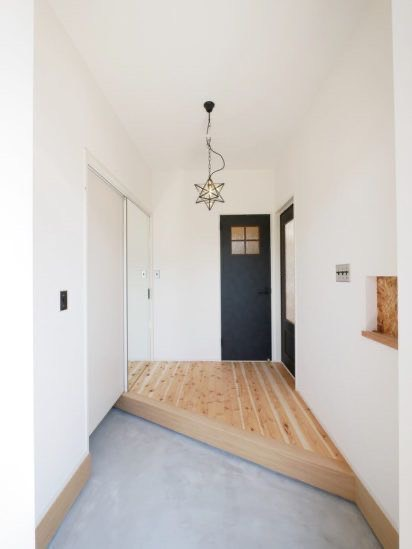floor: (45, 407, 382, 548)
